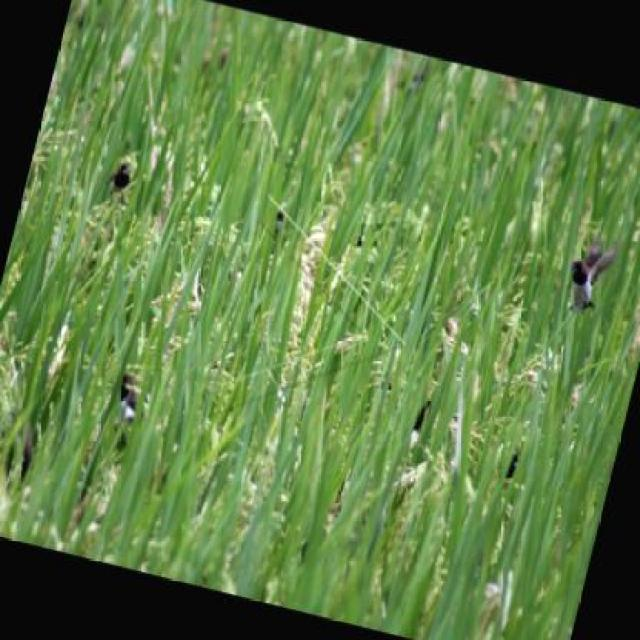Bird: (569, 235, 616, 314)
